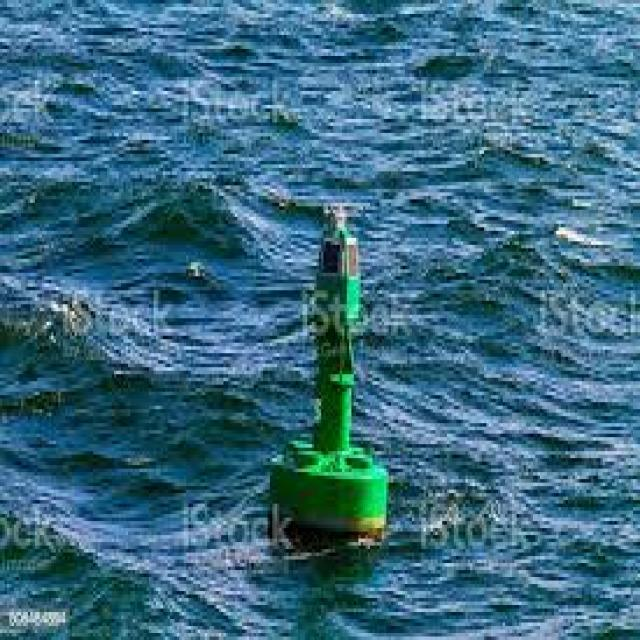buoy: (265, 188, 392, 547)
